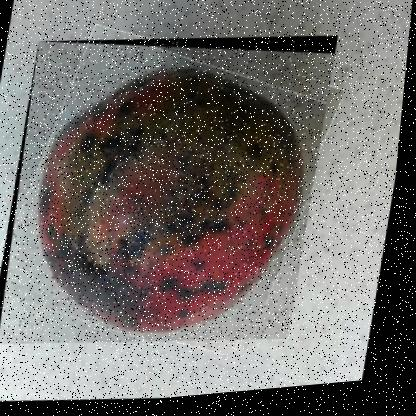pomegranate_rotten: (0, 20, 342, 366)
